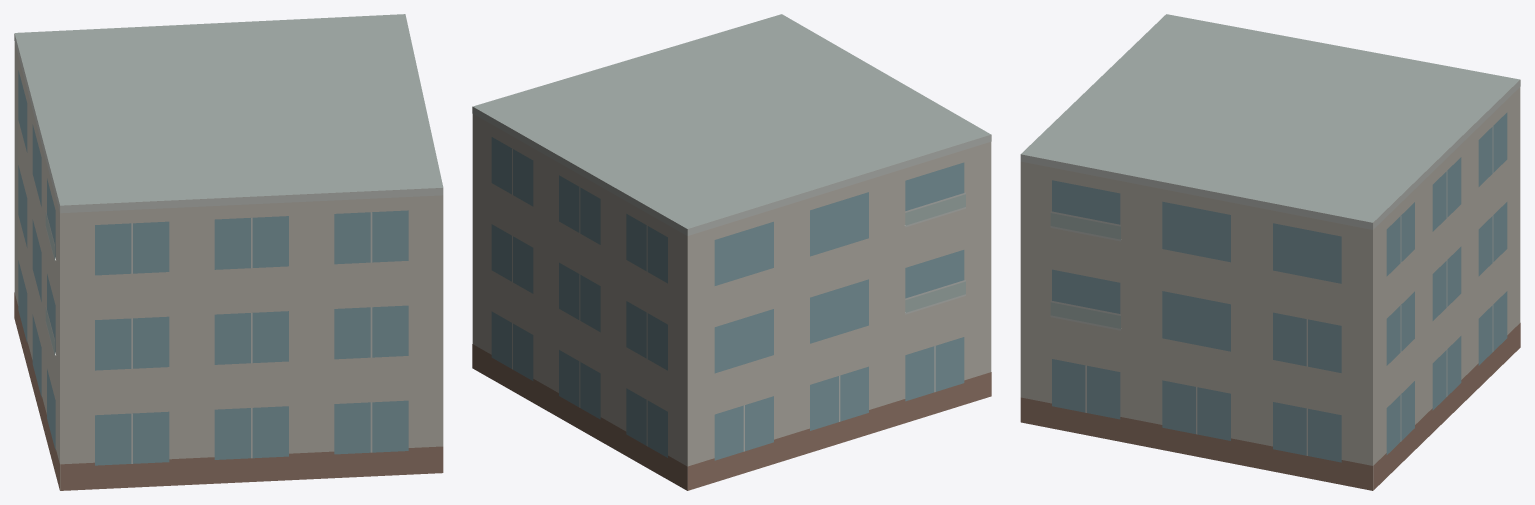
The model's file is survey-upis-32749315.glb.
The picture shows the model from 3 angles, left to right: view 1: azimuth 30°, elevation 25°; view 2: azimuth 150°, elevation 25°; view 3: azimuth 270°, elevation 25°; orthographic projection. The views are drawn at different scales.
Parts seen in each view (by area): view 1: survey-upis-32749315.tmp; view 2: survey-upis-32749315.tmp; view 3: survey-upis-32749315.tmp.
Boxes of the visible parts, left/top/right/bottom form: survey-upis-32749315.tmp: left=14, top=14, right=443, bottom=490; survey-upis-32749315.tmp: left=472, top=14, right=991, bottom=490; survey-upis-32749315.tmp: left=1020, top=14, right=1520, bottom=490.
Bounding box in the file's own units: 15.21 × 9.1 × 15.39.
